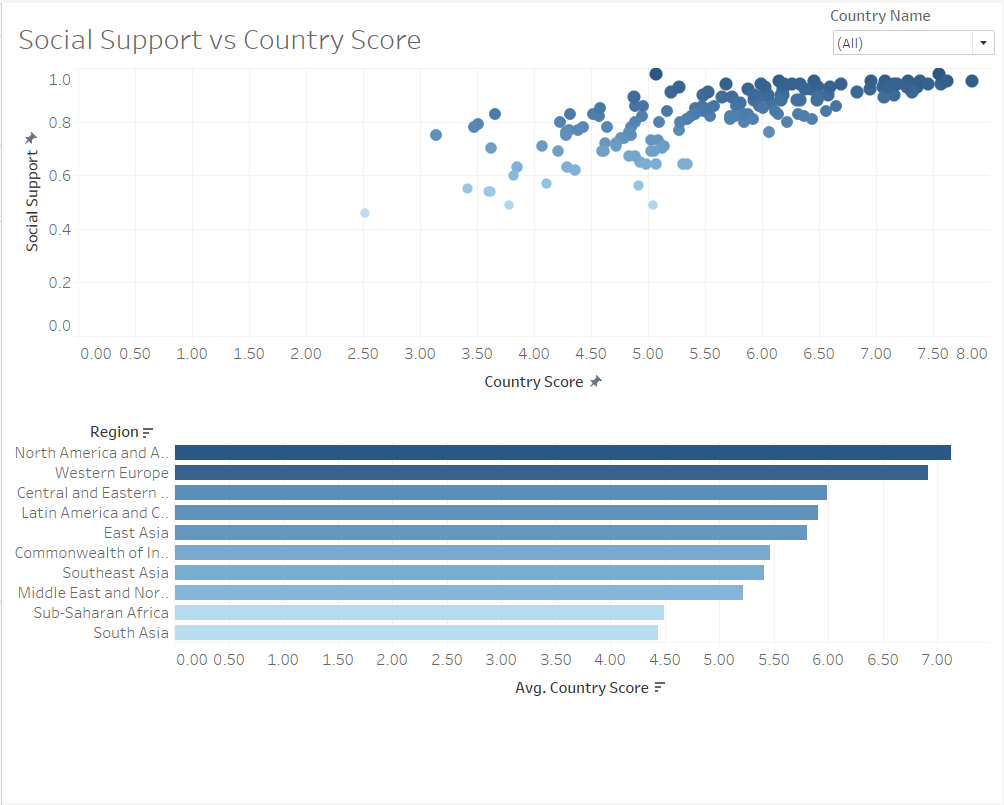

The page's visual inventory and layout, read from the dashboard file:
{"tool":"tableau","page":{"name":"Social","canvas":[1000,800],"ordinal":5},"visuals":[{"type":"filter","title":"Social Support in Country","param":"[federated.168gi1h10k7xlh16hg38707kskvv].[none:Country Name:nk]","box":[828,2,168,61]},{"type":"worksheet","title":"Social Support in Country","mark":"Automatic","rows":["Social Support"],"cols":["Country Score"],"box":[8,8,984,392]},{"type":"worksheet","title":"Regions","mark":"Automatic","rows":["Region"],"cols":["Country Score"],"box":[8,400,984,392]}]}

Visuals, with their boxes in screenshot pixels (x1, y1, x2, y2), scaled from the page's 1000x800 canvas onto the 1004x805 screenshot:
"Social Support in Country" filter: [left=831, top=2, right=1000, bottom=63]
"Social Support in Country" worksheet: [left=8, top=8, right=996, bottom=403]
"Regions" worksheet: [left=8, top=403, right=996, bottom=797]
